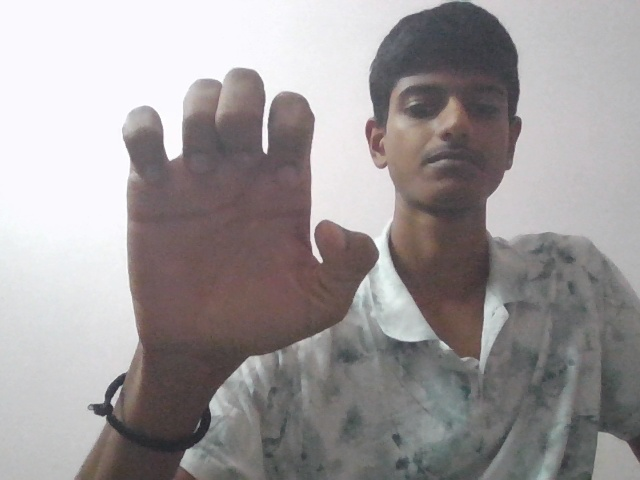yes: (99, 59, 379, 386)
